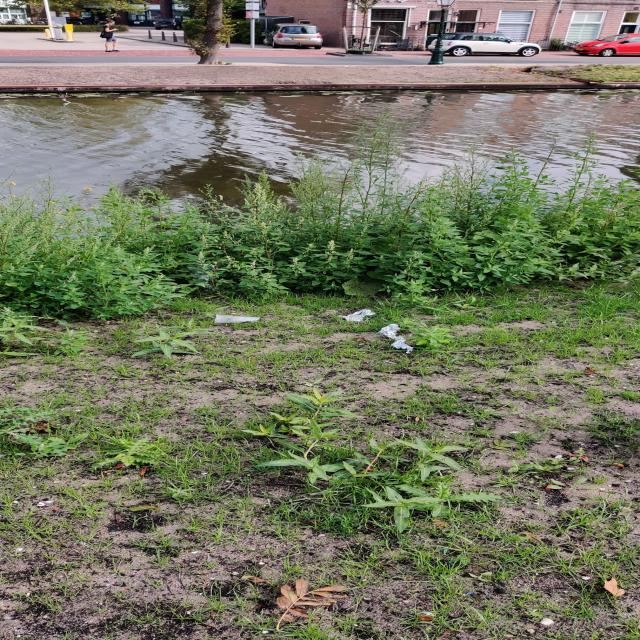litter: (374, 324, 414, 349), (338, 309, 376, 322), (215, 313, 259, 323)
